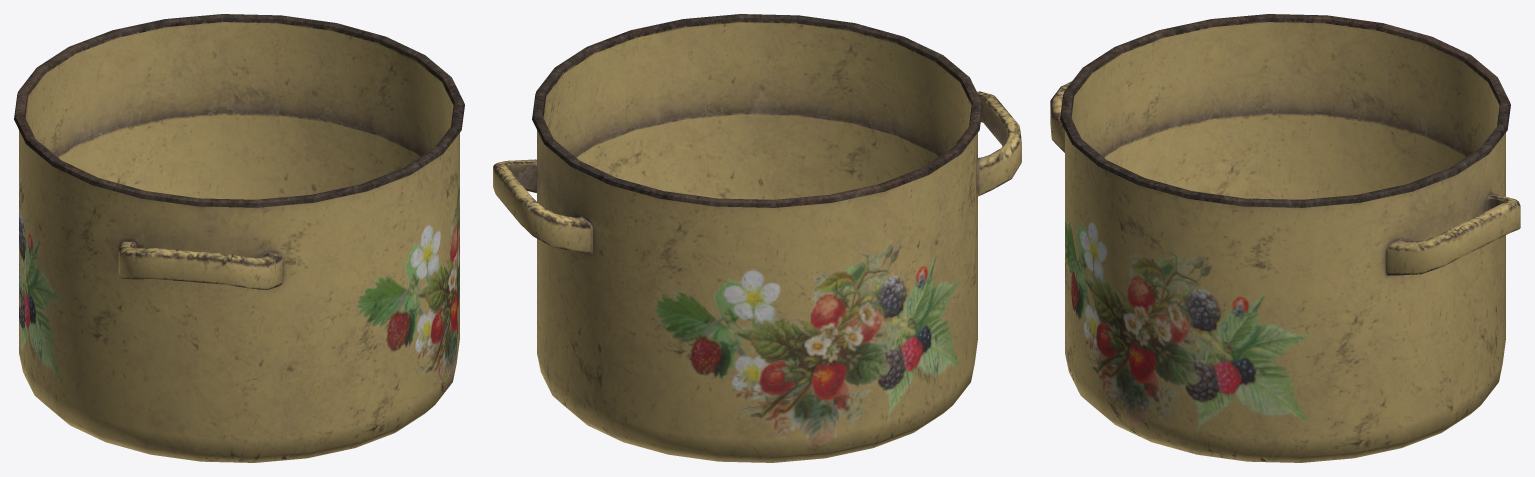
The model's file is pan.fbx.
3 renders of one model, left to right at view 1: azimuth 30°, elevation 25°; view 2: azimuth 150°, elevation 25°; view 3: azimuth 270°, elevation 25°, orthographic.
Parts seen in each view (by area): view 1: low001; view 2: low001; view 3: low001.
Boxes of the visible parts, x1,y1,x2,y2 form: low001: (14,14,464,462); low001: (493,14,1021,462); low001: (1050,14,1520,462).
Bounding box in the file's own units: 30.6 × 20.39 × 31.93.
Materials: 1 (1 with a texture image).
